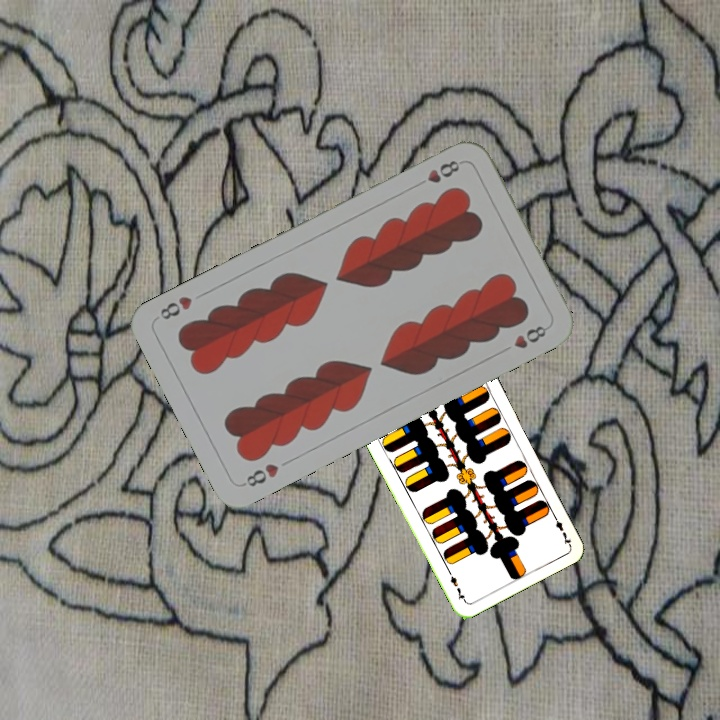E7: (548, 510, 574, 547)
H8: (238, 459, 282, 490), (423, 156, 463, 186)
